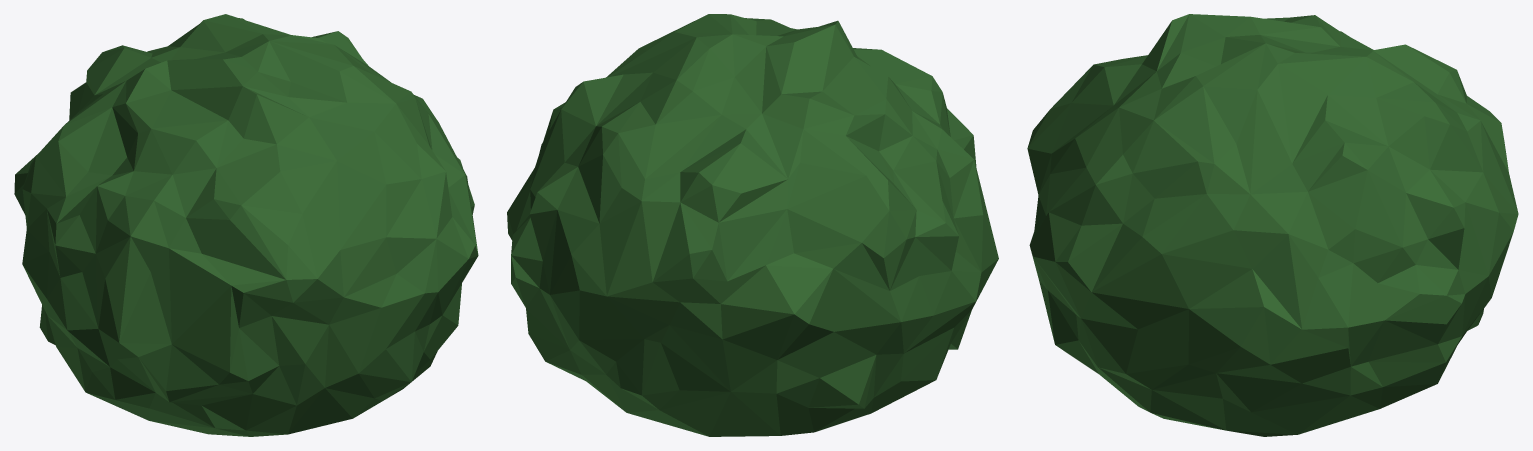
Rendered from bush.fbx.
The picture shows the model from 3 angles, left to right: view 1: azimuth 30°, elevation 25°; view 2: azimuth 150°, elevation 25°; view 3: azimuth 270°, elevation 25°; orthographic projection. The views are drawn at different scales.
Parts seen in each view (by area): view 1: pSphere1; view 2: pSphere1; view 3: pSphere1.
Part boxes in pixels (box(x1,y1,x2,y2)): pSphere1: box(14, 14, 478, 436); pSphere1: box(507, 14, 998, 436); pSphere1: box(1027, 14, 1518, 436).
Bounding box in the file's own units: 3.05 × 2.34 × 3.07.
